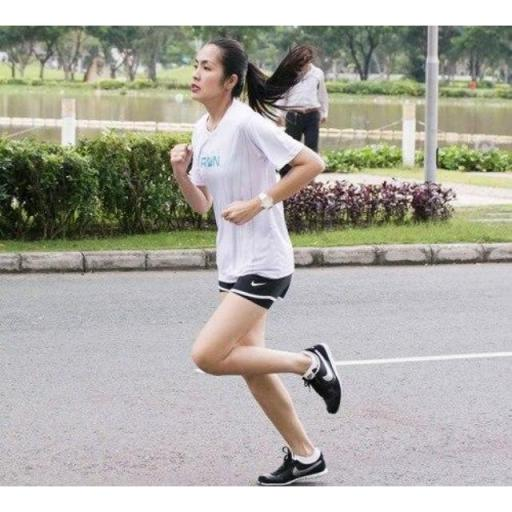Running: (154, 30, 364, 486)
